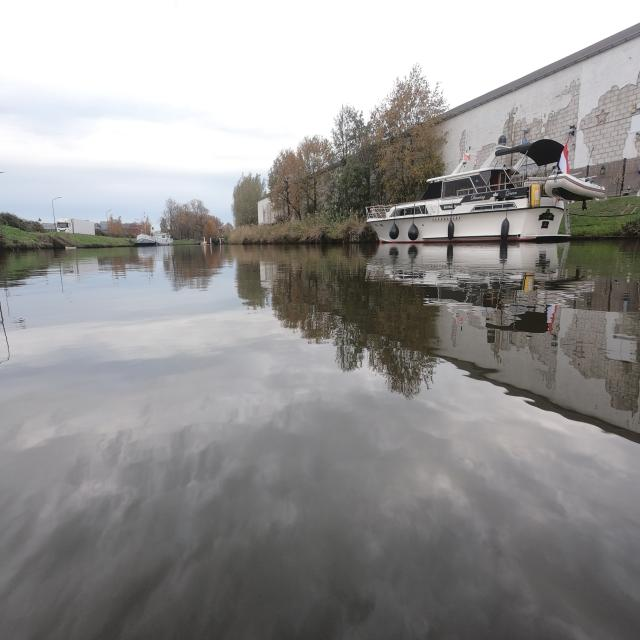boat: (135, 232, 172, 246)
grass: (567, 195, 639, 234), (1, 225, 114, 247)
reed: (228, 214, 377, 244)
sky: (1, 0, 638, 220)
tree: (371, 64, 446, 203), (331, 104, 377, 210), (297, 135, 332, 213), (268, 149, 304, 220)
water: (1, 241, 639, 639)
